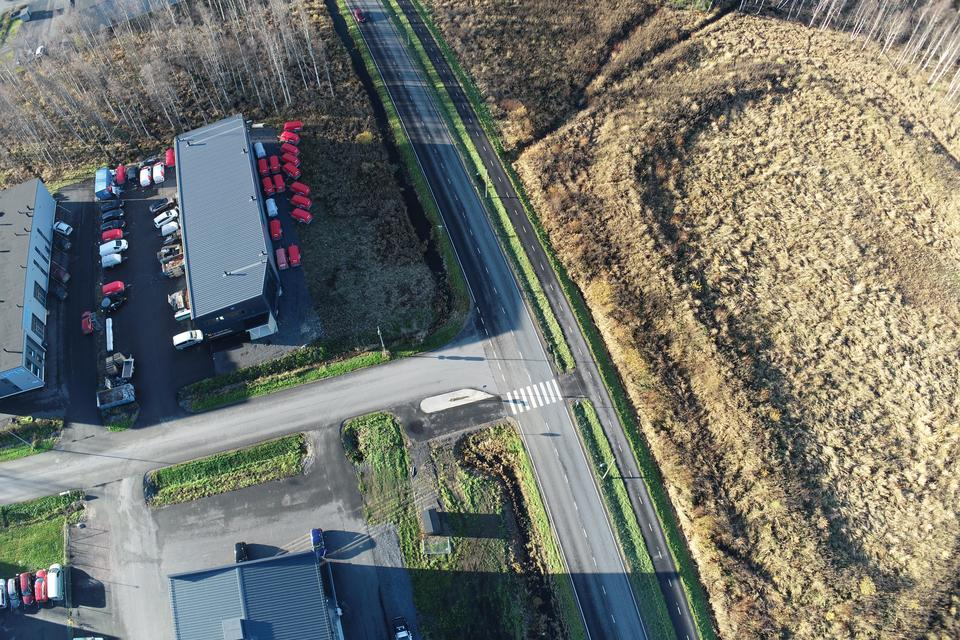intersection: (387, 306, 644, 451)
